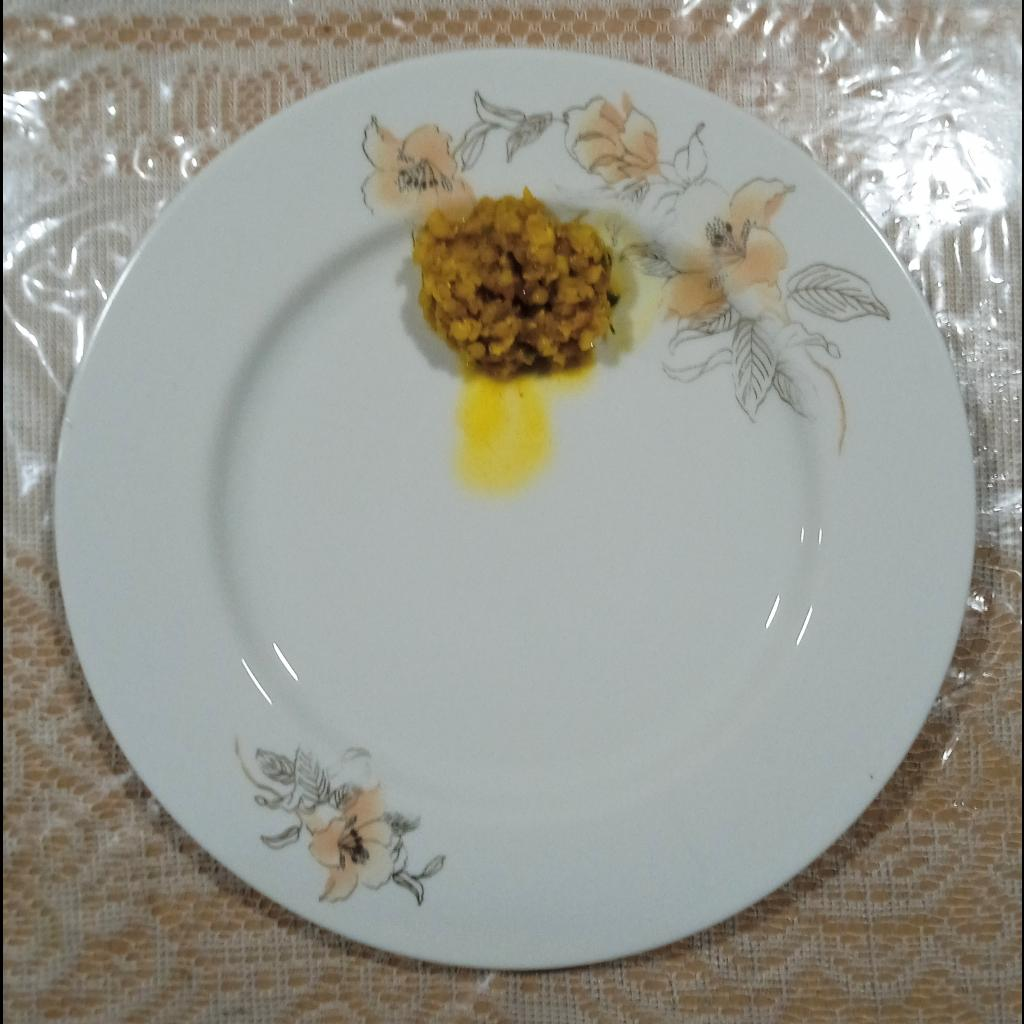daal: (411, 193, 616, 381)
